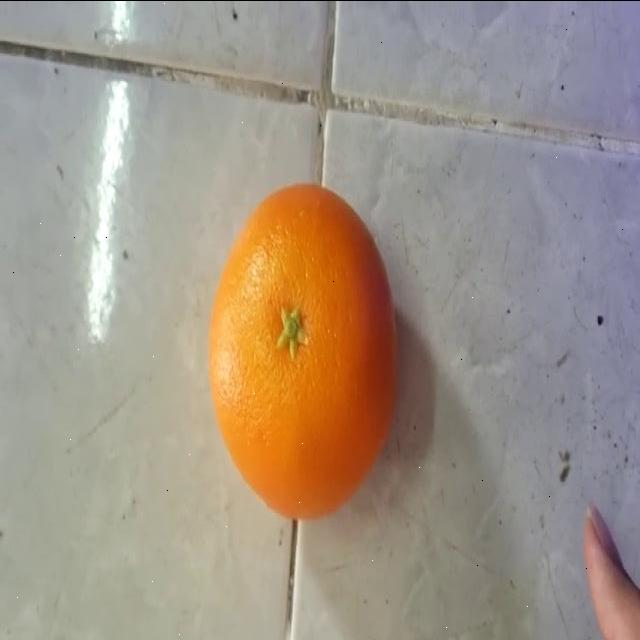Orange: (206, 182, 399, 521)
